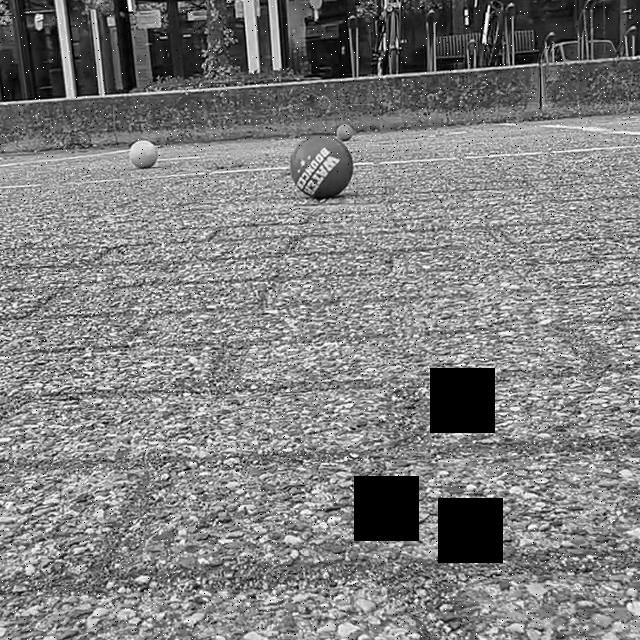ball: (129, 138, 159, 171), (334, 120, 355, 142)
